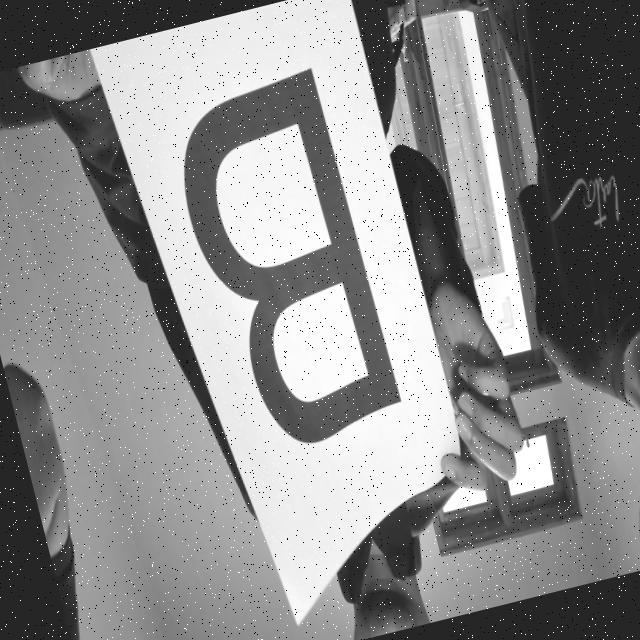b: (137, 37, 419, 480)
